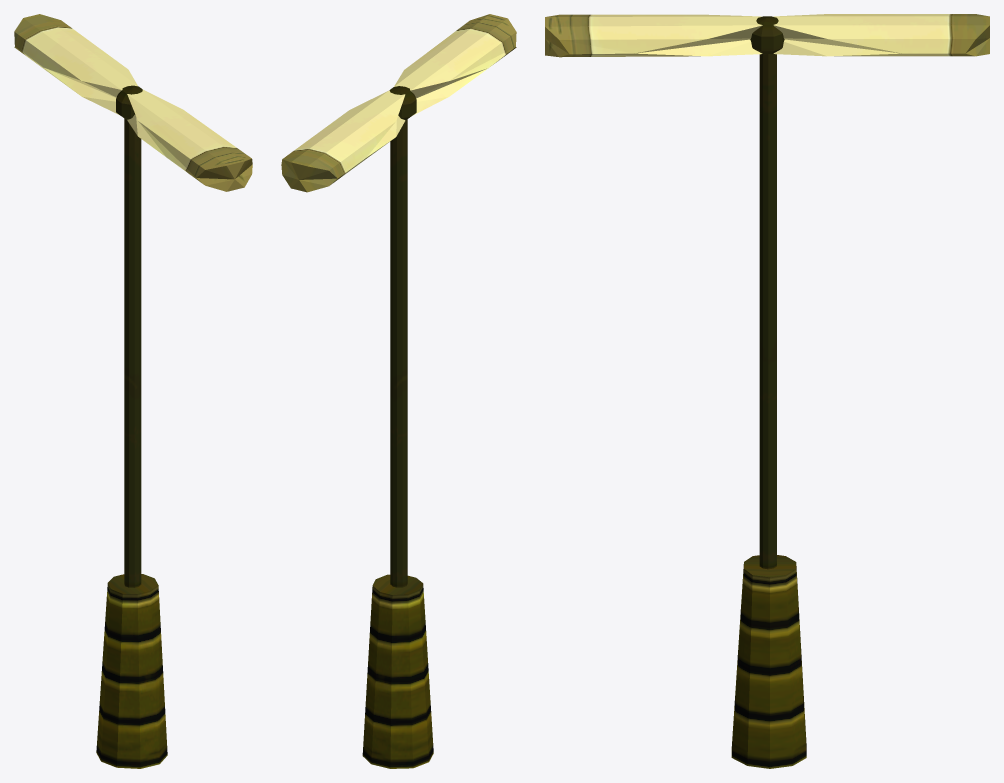
Rendered from Rotator.glb.
3 renders of one model, left to right at view 1: azimuth 30°, elevation 25°; view 2: azimuth 150°, elevation 25°; view 3: azimuth 270°, elevation 25°, orthographic. The views are drawn at different scales.
Parts seen in each view (by area): view 1: Rotator; view 2: Rotator; view 3: Rotator.
Boxes of the visible parts, bbox=[...] form: Rotator: bbox=[14, 14, 252, 768]; Rotator: bbox=[281, 14, 516, 768]; Rotator: bbox=[545, 14, 989, 768].
Size of the model in its own units: 20.15 by 208 by 114.
1 material, 1 textured.
